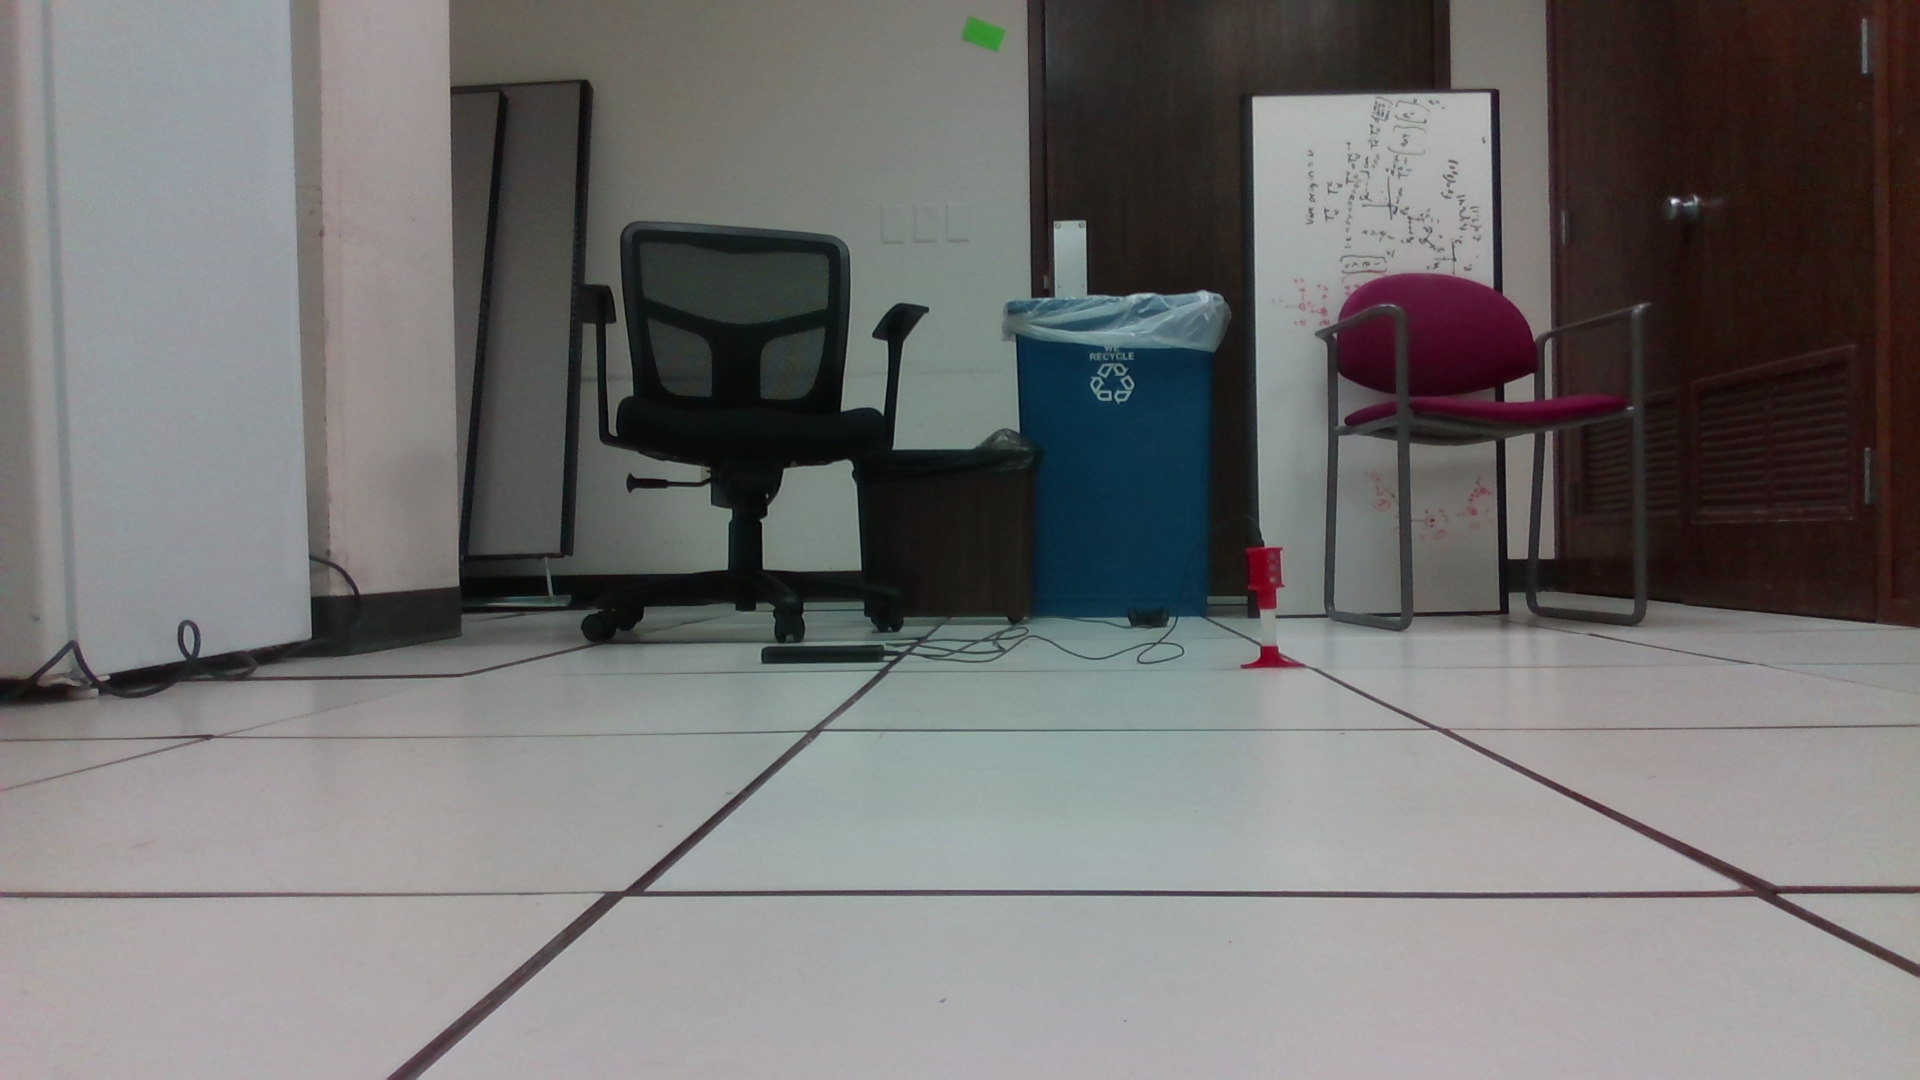stoplight: (1247, 545, 1288, 611)
